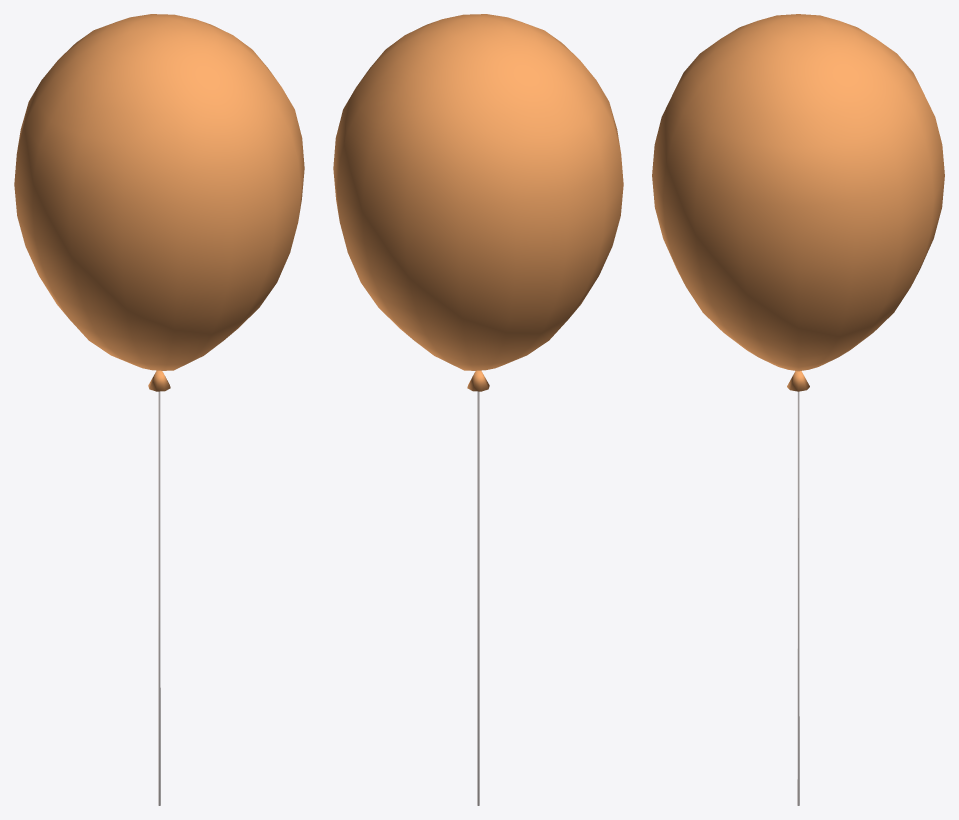
File: Light_YellowBalloon.fbx
3 renders of one model, left to right at view 1: azimuth 30°, elevation 25°; view 2: azimuth 150°, elevation 25°; view 3: azimuth 270°, elevation 25°, orthographic.
Visible parts, largest first — view 1: balloon-light-yellow; view 2: balloon-light-yellow; view 3: balloon-light-yellow.
Boxes of the visible parts, left/top/right/bottom form: balloon-light-yellow: left=14, top=14, right=304, bottom=805; balloon-light-yellow: left=333, top=14, right=623, bottom=805; balloon-light-yellow: left=652, top=14, right=944, bottom=805.
Bounding box in the file's own units: 93.12 × 273 × 93.09.
Materials: 2 (2 with a texture image).
